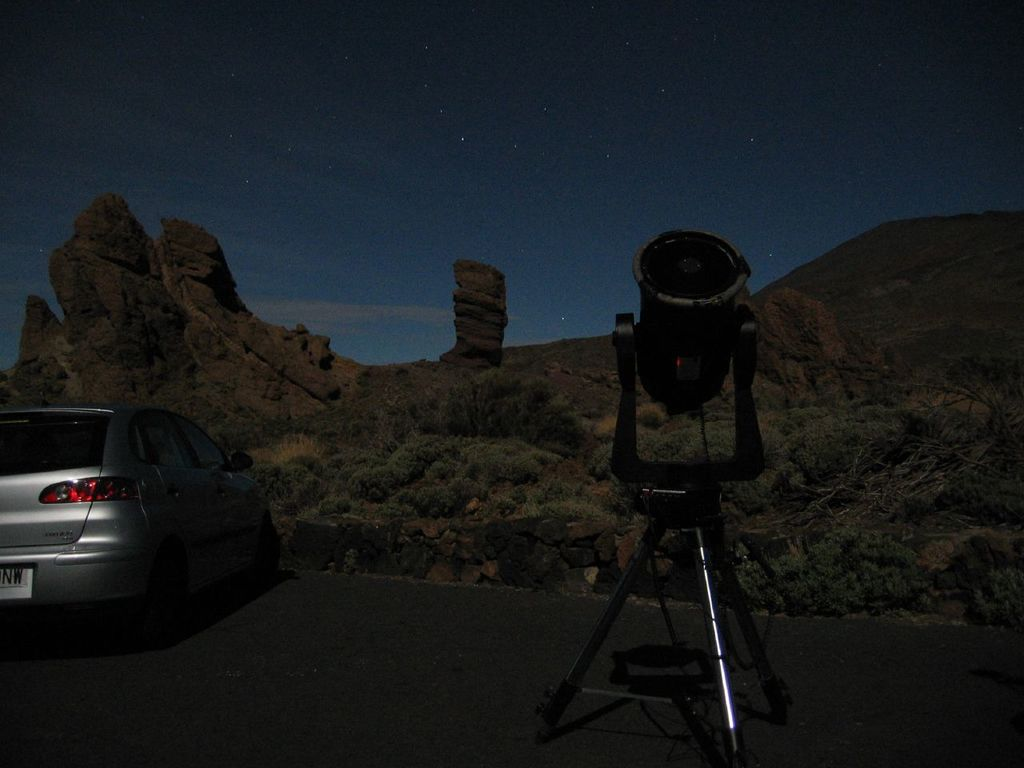cars: (0, 399, 297, 651)
